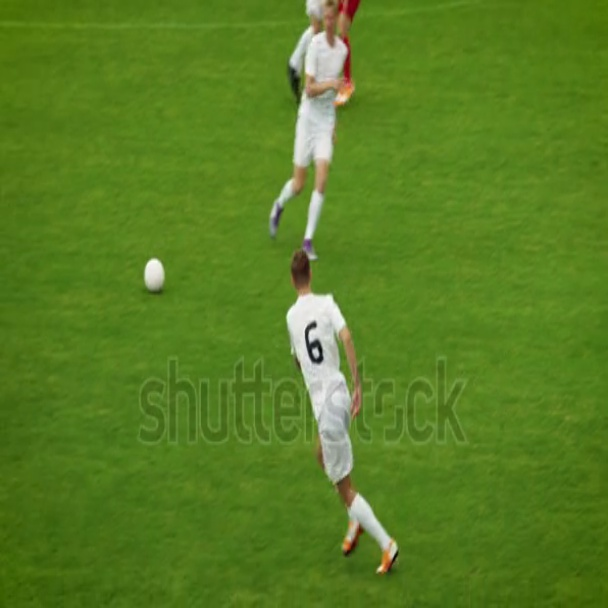ball: (146, 257, 163, 286)
